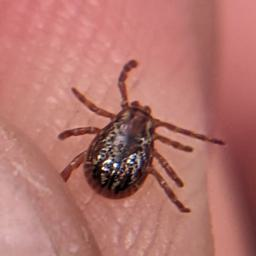Dermacentor variabilis: (56, 58, 227, 215)
